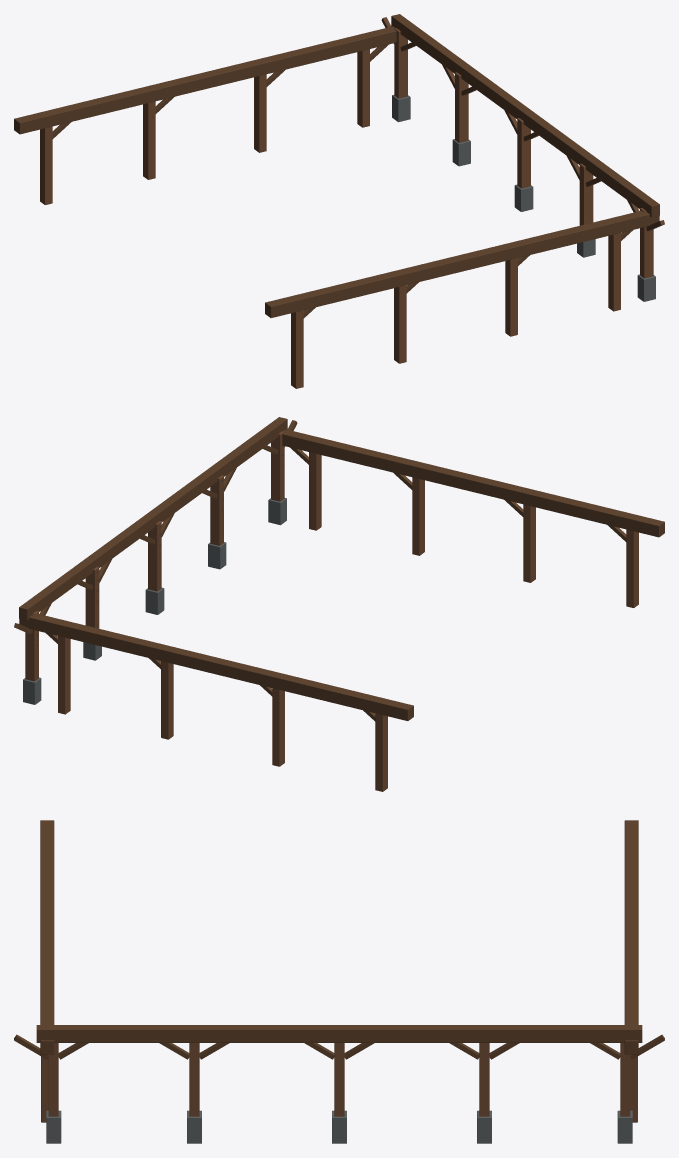
Rendered from SM_CP_TimberStructure.fbx.
3 views of the same model, one above another, from view 1: azimuth 30°, elevation 25°; view 2: azimuth 150°, elevation 25°; view 3: azimuth 270°, elevation 25° (orthographic). The views are drawn at different scales.
Parts seen in each view (by area): view 1: SM_CP_TimberStructure; view 2: SM_CP_TimberStructure; view 3: SM_CP_TimberStructure.
Part boxes in pixels (left/top/right/bottom): SM_CP_TimberStructure: left=14, top=14, right=664, bottom=388; SM_CP_TimberStructure: left=14, top=417, right=664, bottom=791; SM_CP_TimberStructure: left=14, top=820, right=664, bottom=1143.
Size of what is drawn, in the model's own units: 2450 by 3052 by 590.
